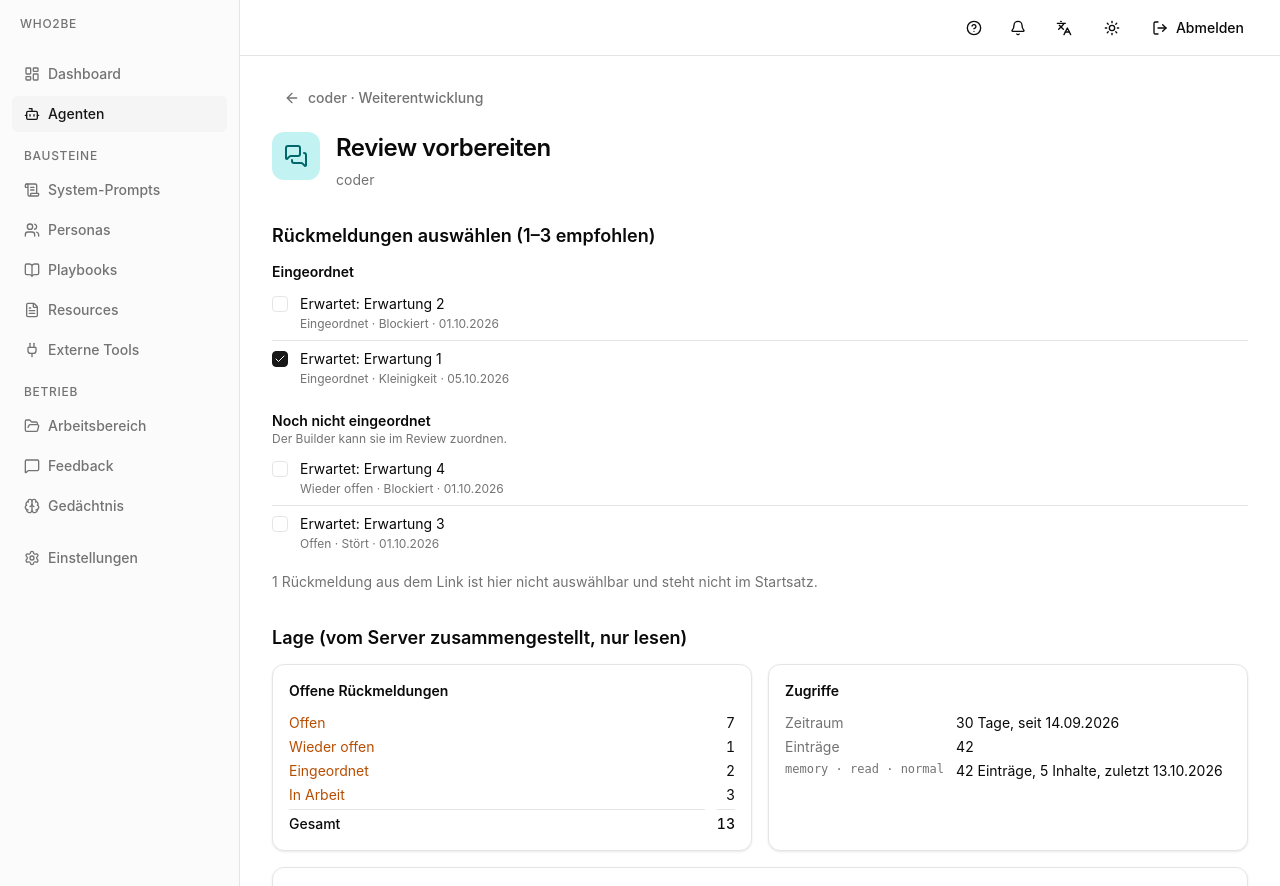
Test: ① Rückmeldungen › entfernt unbekannte IDs beim naechsten Toggle aus der URL
This screenshot has width=1280, height=886.
Expected: the element with test id "prepare-group-triaged" is shown, [272,262,1248,395]
Click the checkbox labelled "Erwartet: Erwartung 2 Eingeordnet · Blockiert · 01.10.2026": {"x": 280, "y": 304} [264,288,296,320]
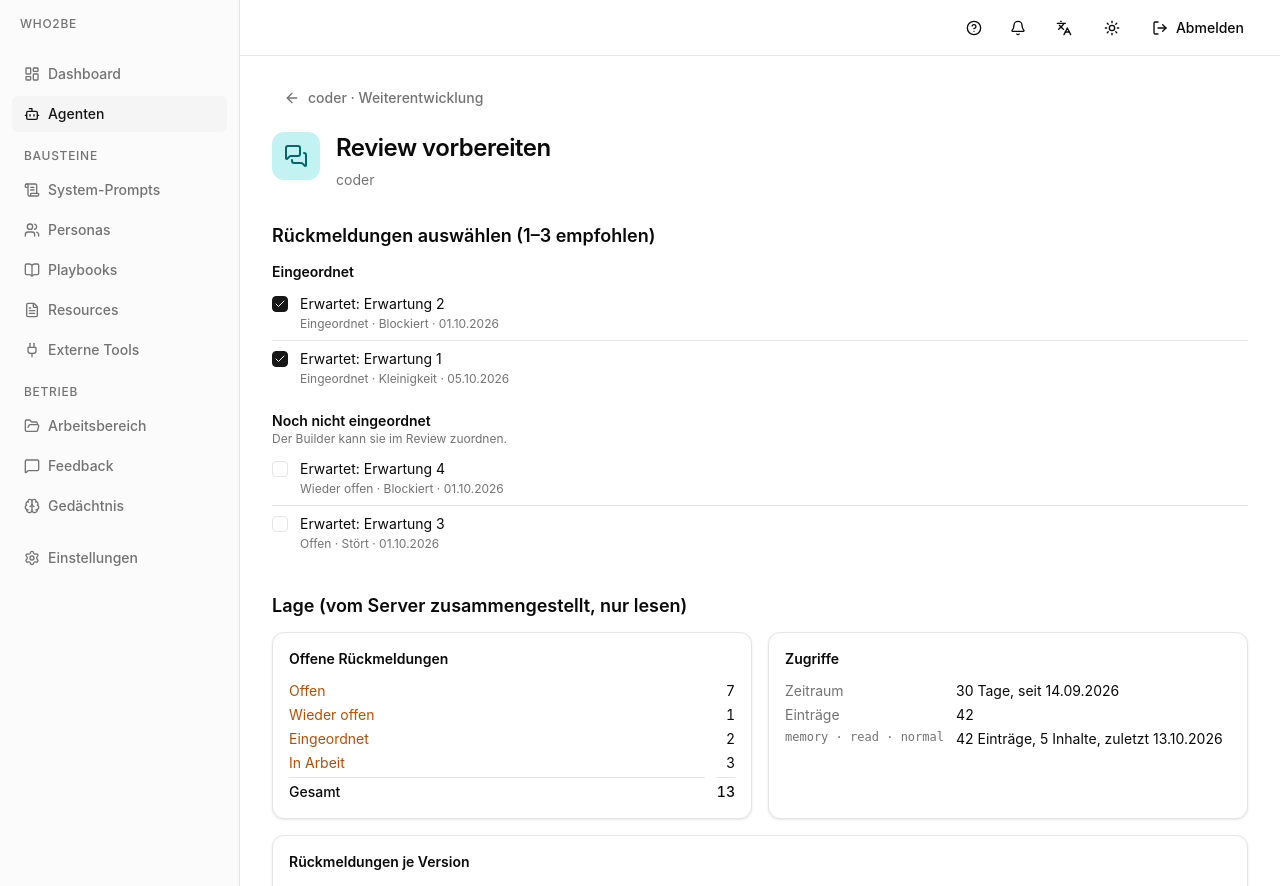
Expected: the message with test id "prepare-unresolved" is gone
